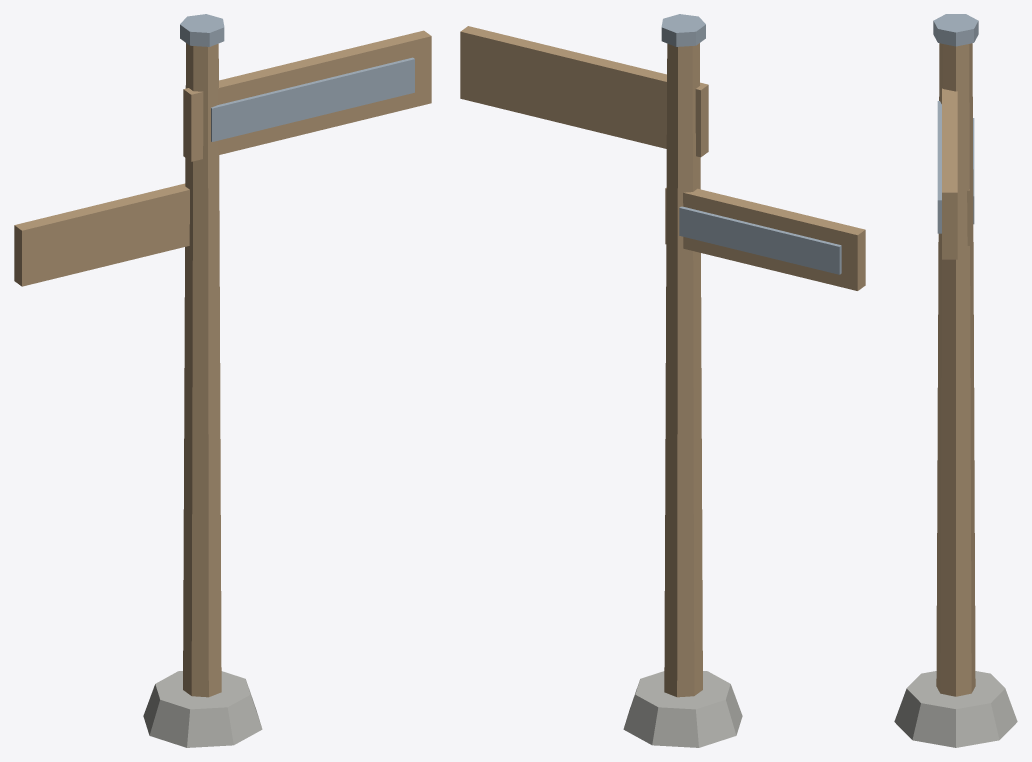
The model's file is wipe-day-survival-island-wooden-road-sign-post-1a9ab6a0__27442.glb.
3 views of the same model, side by side, from view 1: azimuth 30°, elevation 25°; view 2: azimuth 150°, elevation 25°; view 3: azimuth 270°, elevation 25° (orthographic).
Parts seen in each view (by area): view 1: wooden-road-sign-post; view 2: wooden-road-sign-post; view 3: wooden-road-sign-post.
Part boxes in pixels (x1,y1,x2,y2): wooden-road-sign-post: [14, 14, 431, 747]; wooden-road-sign-post: [460, 14, 865, 747]; wooden-road-sign-post: [894, 14, 1017, 747].
Bounding box in the file's own units: 1.51 × 2.5 × 0.4.
